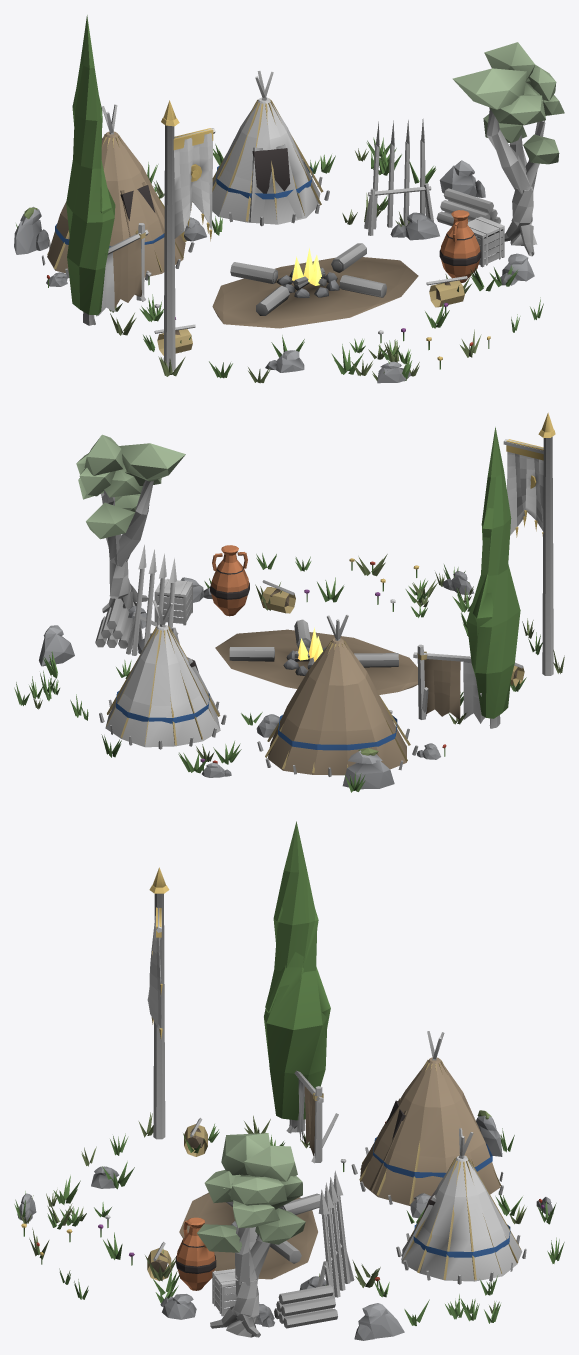
Rendered from scout-camp-l1.glb.
3 views of the same model, one above another, from view 1: azimuth 30°, elevation 25°; view 2: azimuth 150°, elevation 25°; view 3: azimuth 270°, elevation 25° (orthographic). The views are drawn at different scales.
Parts seen in each view (by area): view 1: scout-camp-l1; view 2: scout-camp-l1; view 3: scout-camp-l1.
Boxes of the visible parts, x1,y1,x2,y2 form: scout-camp-l1: (14, 15, 564, 383); scout-camp-l1: (14, 412, 564, 792); scout-camp-l1: (14, 821, 564, 1340).
Size of the model in its own units: 1.58 by 1.02 by 1.62.
